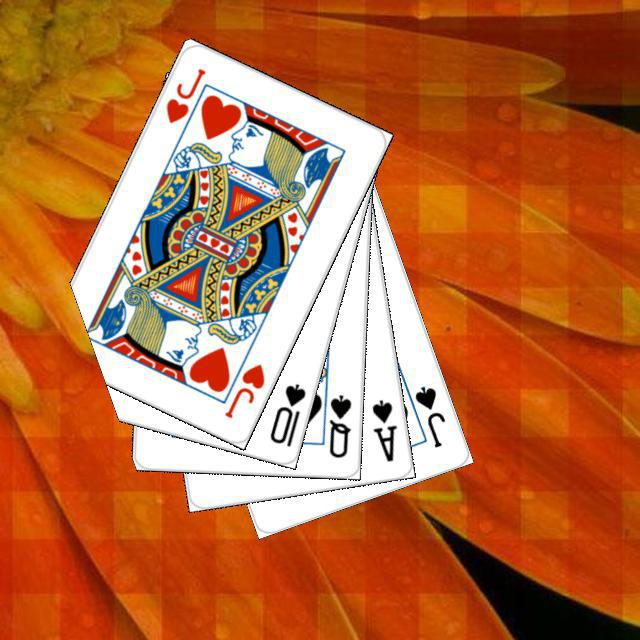10s: (265, 378, 308, 449)
As: (367, 395, 399, 464)
Jh: (219, 359, 267, 420), (161, 63, 208, 125)
Js: (409, 381, 447, 450)
Qs: (324, 390, 353, 459)
